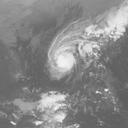cyclone: (46, 34, 83, 75)
